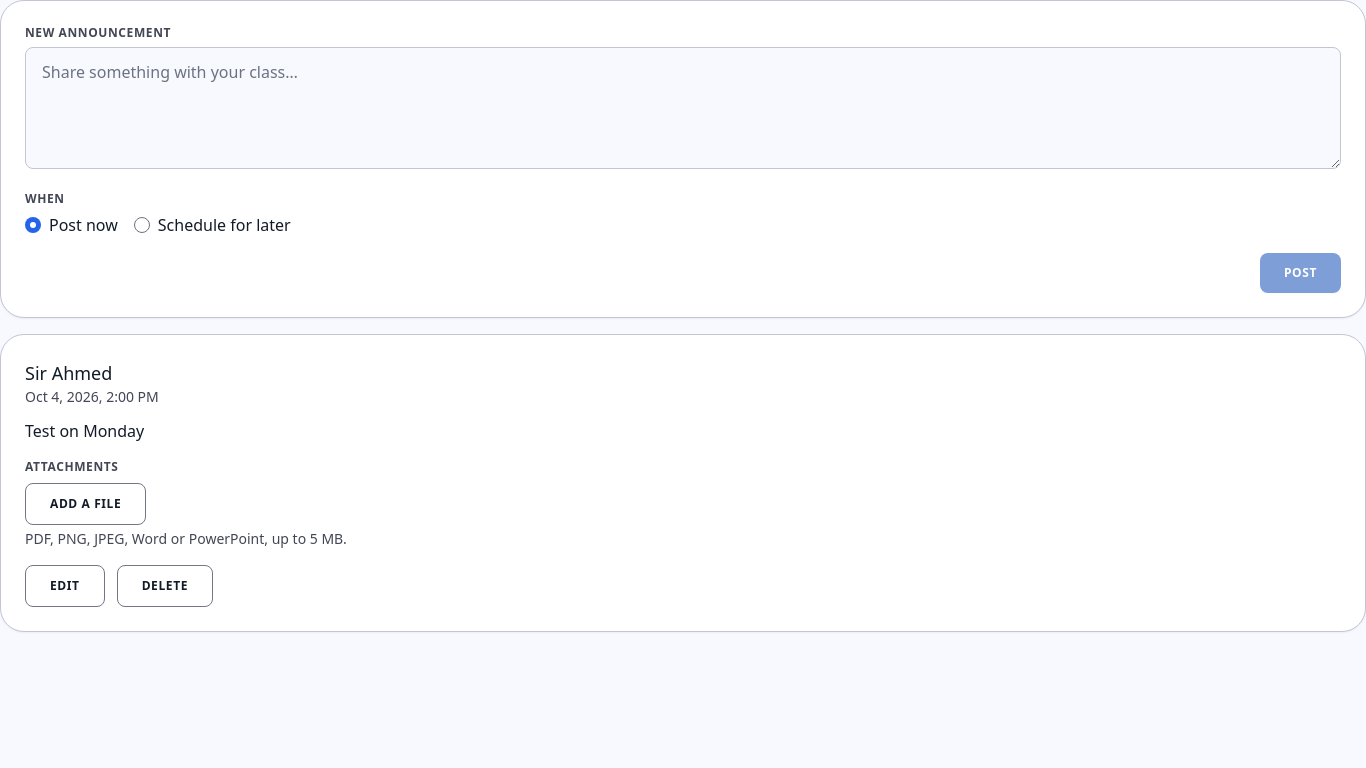
it: the owner › explains a schedule the server refused
Type "x" into the text box labelled "New announcement" at (683, 108), box x1=25 y1=47 x2=1341 y2=169
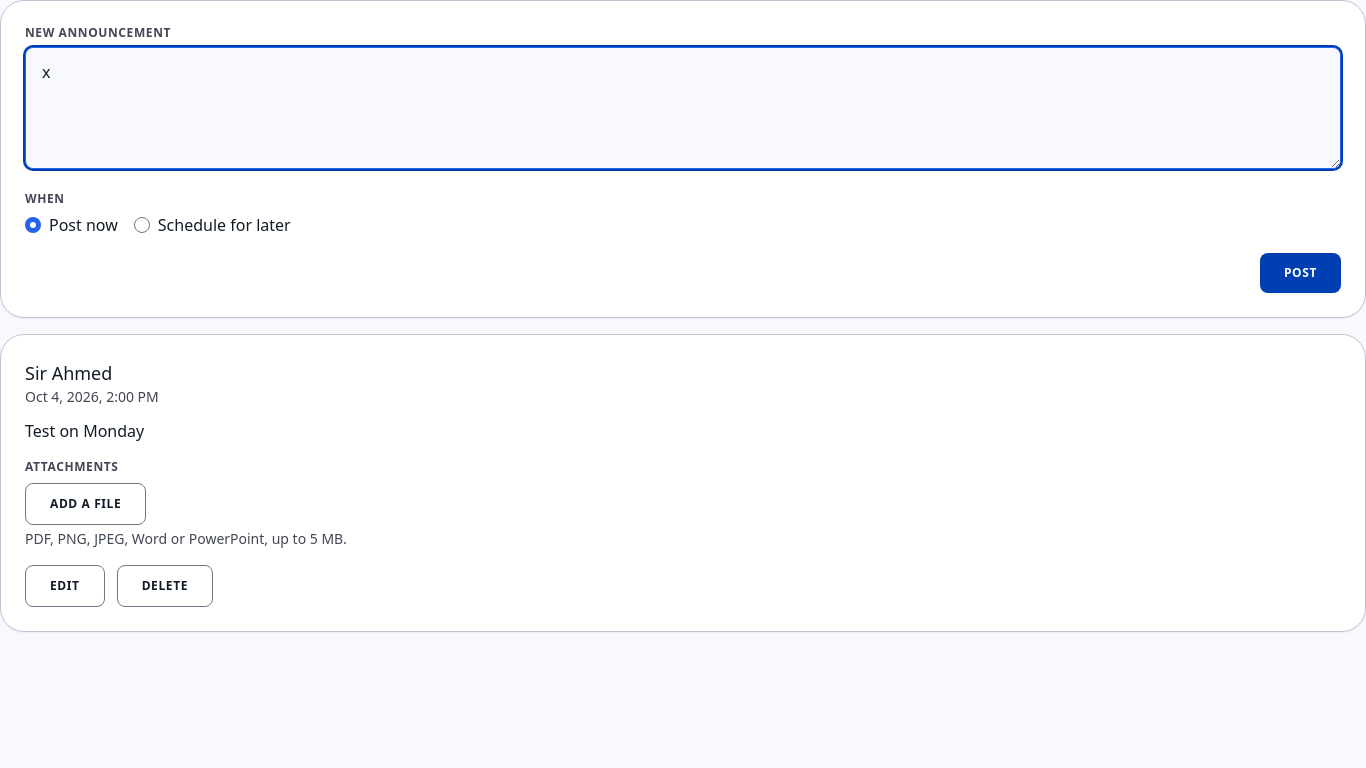
Click the radio button labelled "Schedule for later" at (142, 225), box x1=134 y1=217 x2=150 y2=233
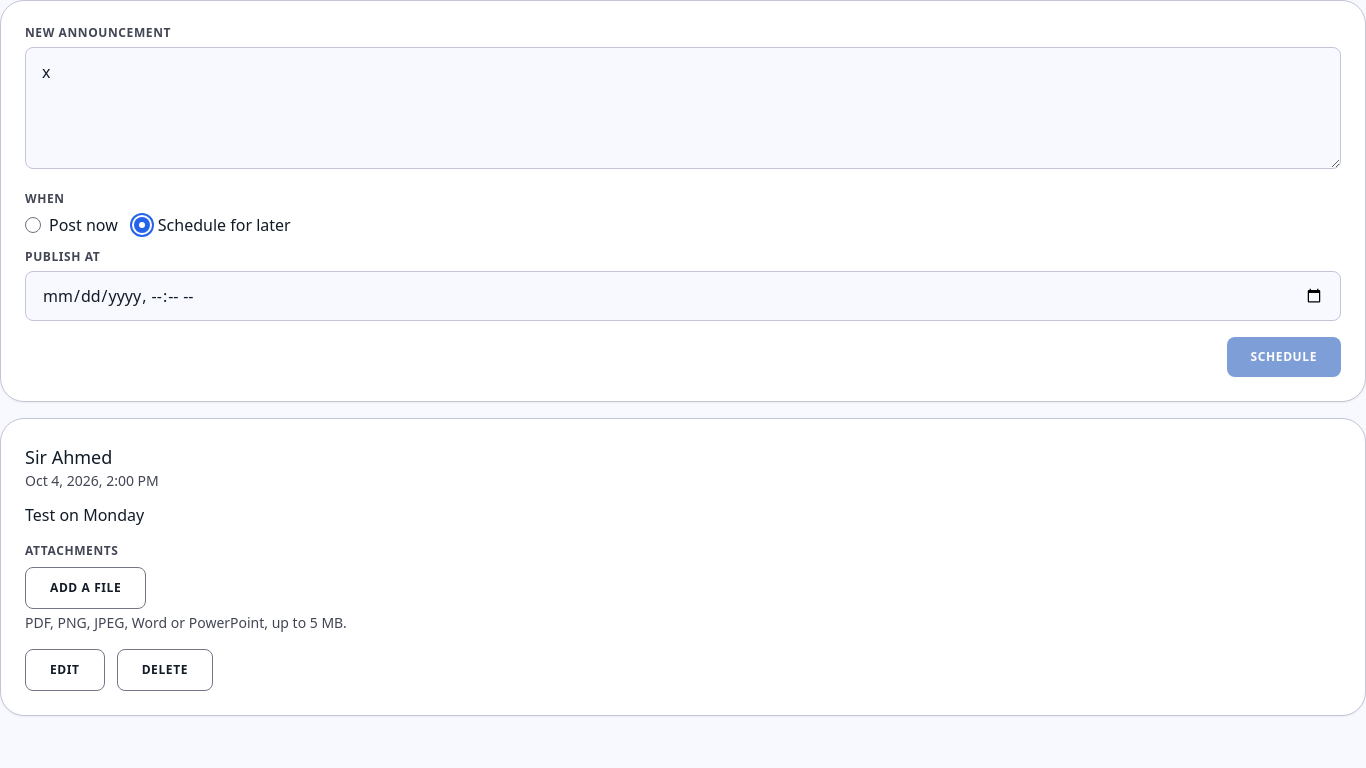
Type "2030-01-01T10:00" into the field labelled "Publish at" at (683, 296), box x1=25 y1=271 x2=1341 y2=321
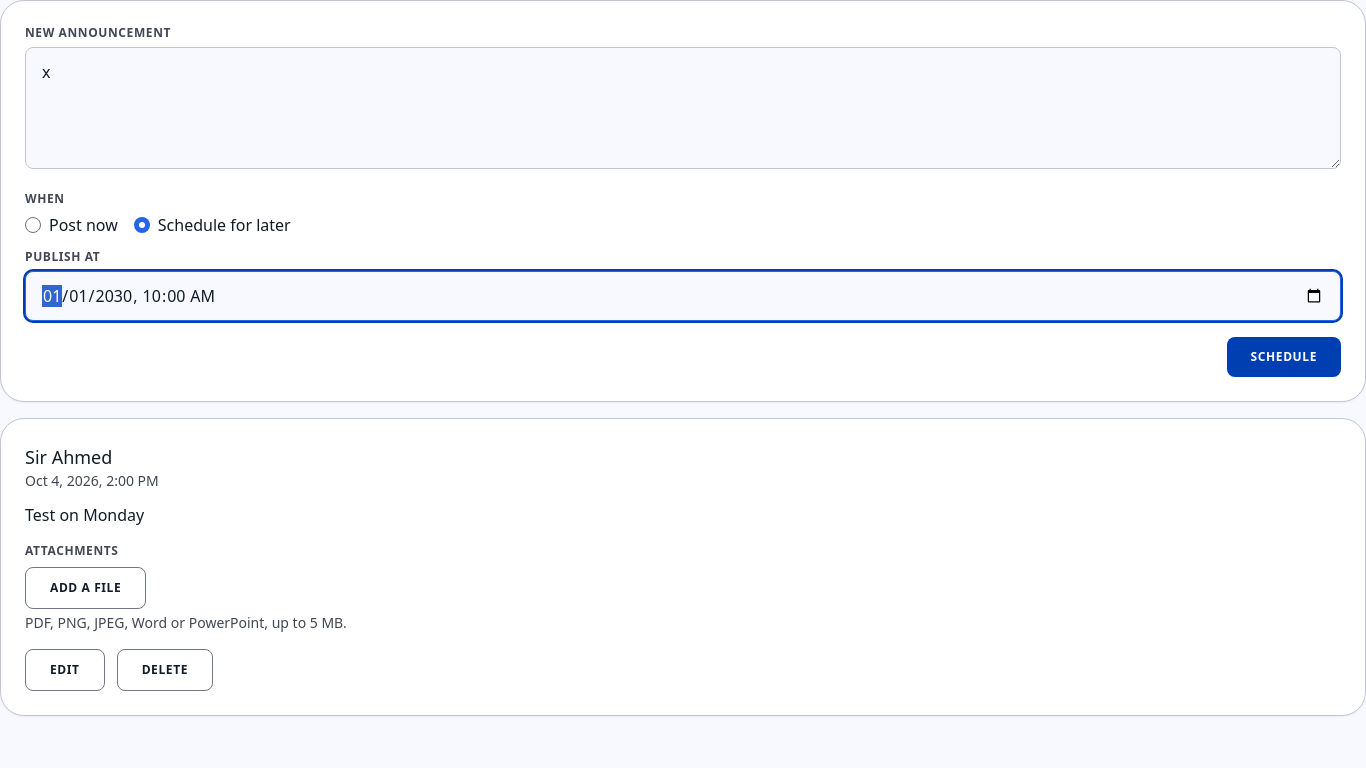
Click the button "Schedule" at (1284, 357), box x1=1227 y1=337 x2=1341 y2=377
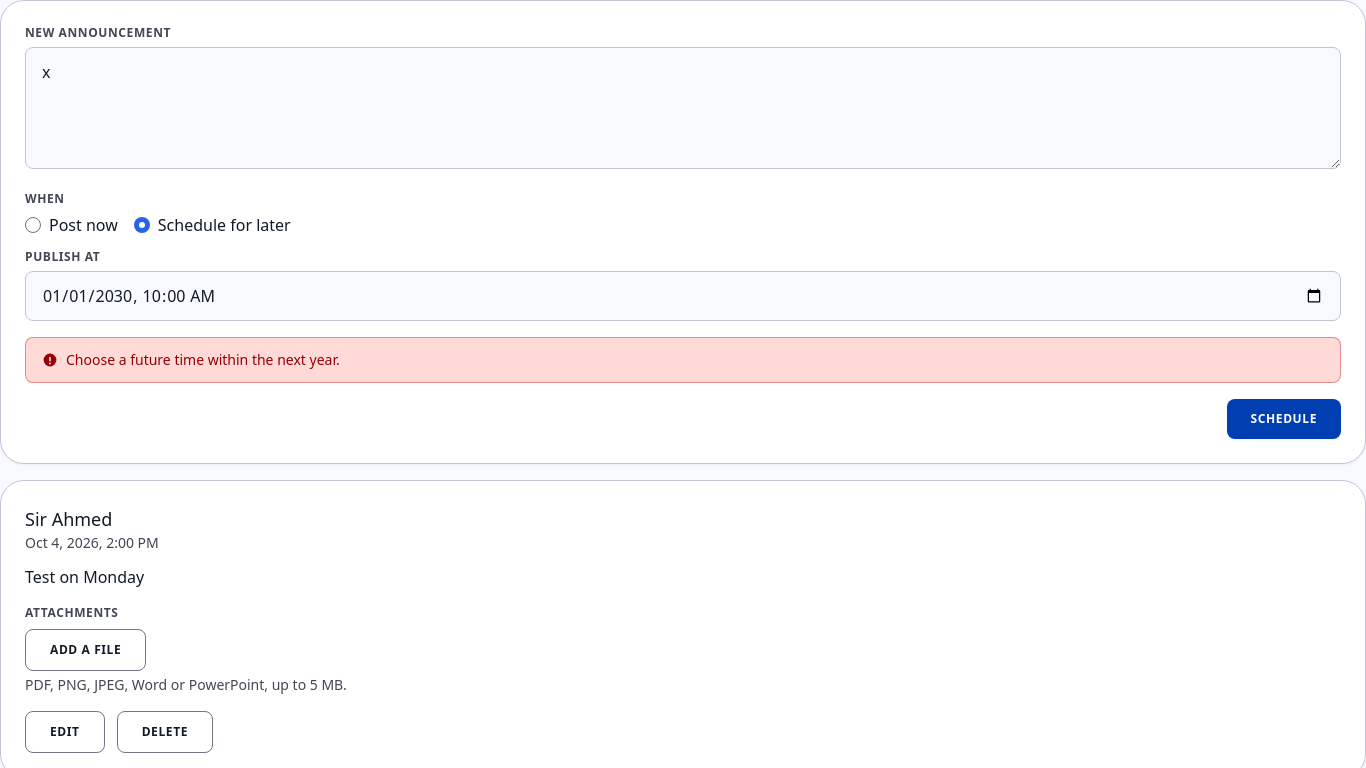
Expected: the message reads "Choose a future time within the next year.", x1=66 y1=350 x2=340 y2=369
